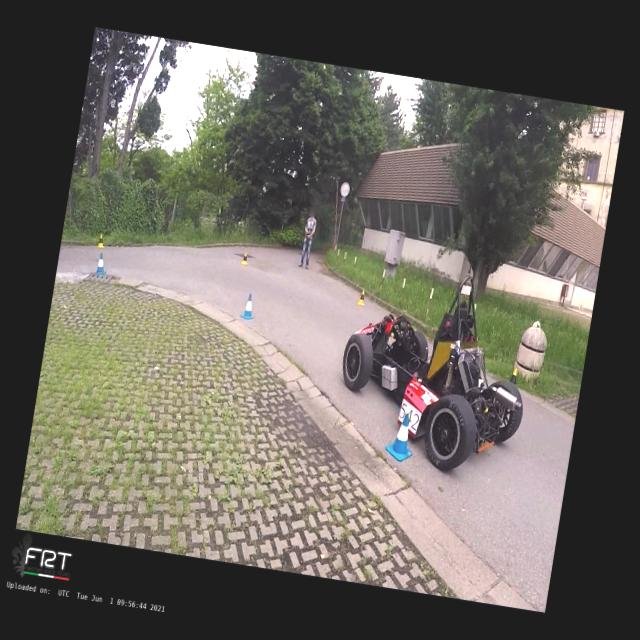blue_cone: (384, 411, 418, 463), (240, 292, 258, 320), (94, 252, 110, 275)
yellow_cone: (509, 368, 518, 386), (357, 290, 367, 306), (96, 234, 106, 248), (240, 252, 250, 264)
